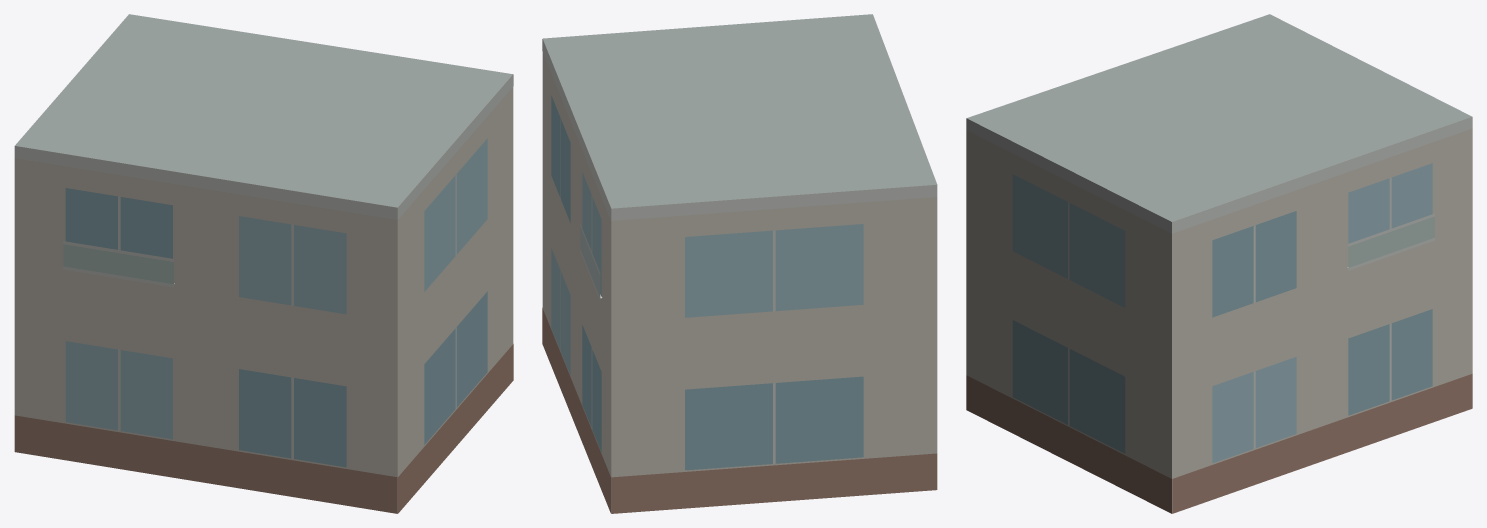
Rendered from survey-upis-32762120.glb.
3 views of the same model, side by side, from view 1: azimuth 30°, elevation 25°; view 2: azimuth 150°, elevation 25°; view 3: azimuth 270°, elevation 25° (orthographic). The views are drawn at different scales.
Parts seen in each view (by area): view 1: survey-upis-32762120.tmp; view 2: survey-upis-32762120.tmp; view 3: survey-upis-32762120.tmp.
Boxes of the visible parts, bbox=[...] form: survey-upis-32762120.tmp: bbox=[14, 14, 513, 513]; survey-upis-32762120.tmp: bbox=[542, 14, 937, 513]; survey-upis-32762120.tmp: bbox=[966, 14, 1472, 513].
Size of the model in its own units: 9.34 by 6.1 by 9.6.
